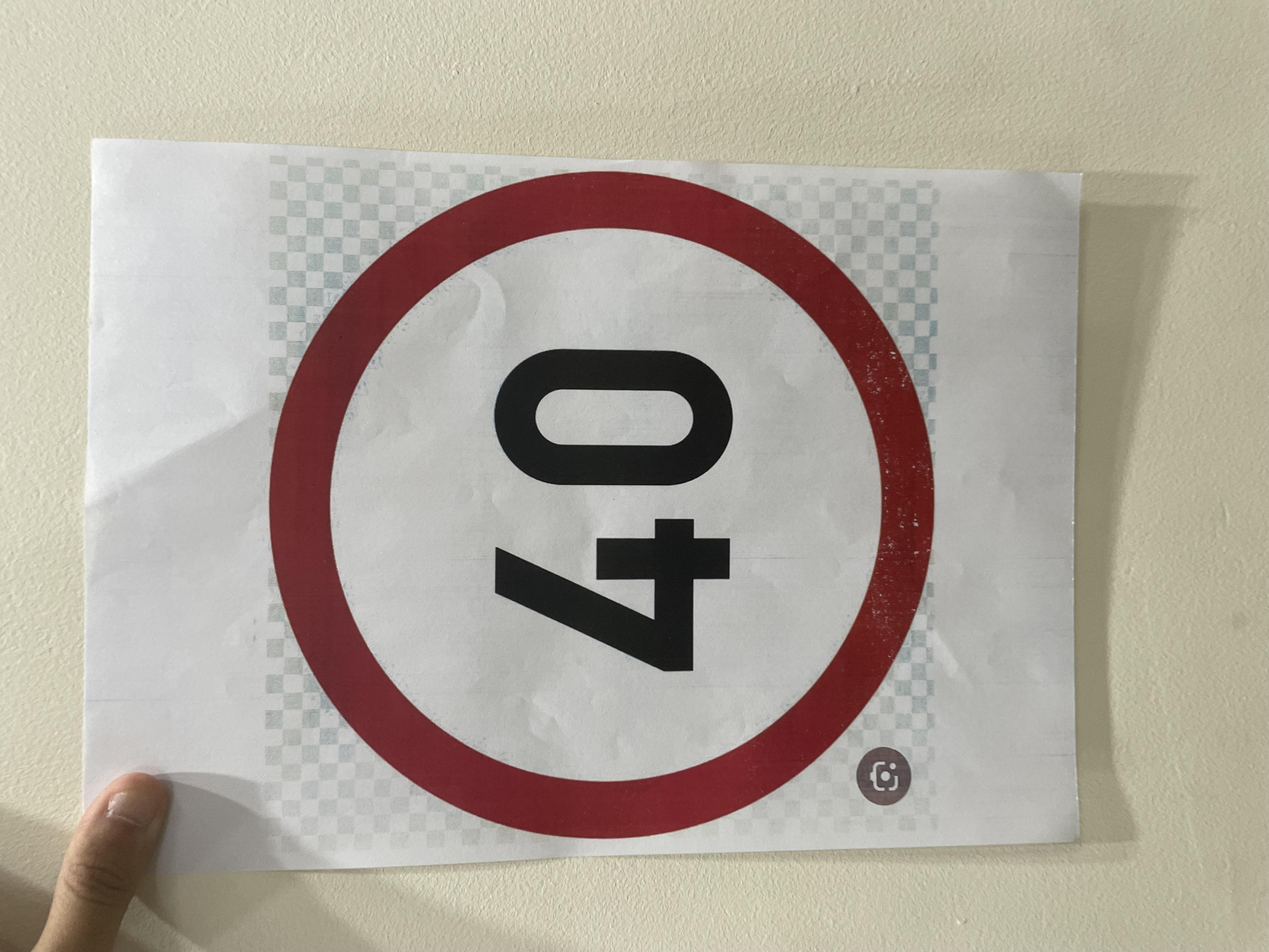40-Speed: (144, 199, 1063, 710)
